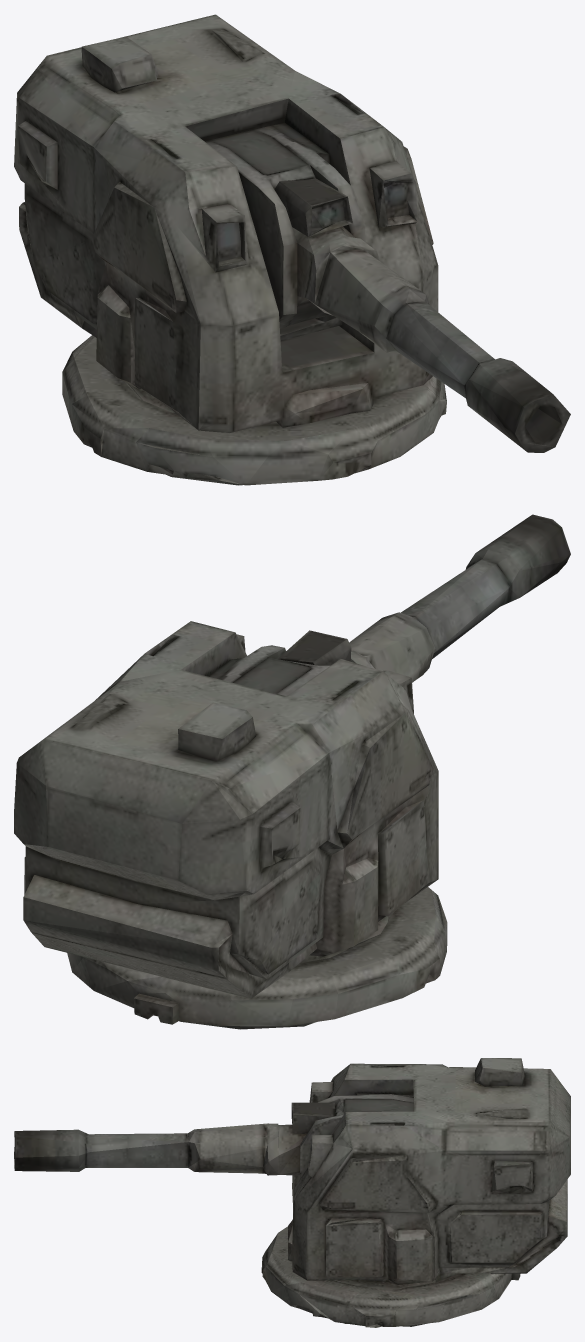
Rendered from struct.ranged_defense.head1.glb.
The picture shows the model from 3 angles, top to bottom: view 1: azimuth 30°, elevation 25°; view 2: azimuth 150°, elevation 25°; view 3: azimuth 270°, elevation 25°; orthographic projection. The views are drawn at different scales.
Visible parts, largest first — view 1: body; view 2: body; view 3: body.
Boxes of the visible parts, left/top/right/bottom form: body: left=14, top=14, right=570, bottom=485; body: left=14, top=514, right=570, bottom=1029; body: left=14, top=1058, right=570, bottom=1327.
Bounding box in the file's own units: 0.4573 × 0.4095 × 0.9989.
Materials: 1 (1 with a texture image).
